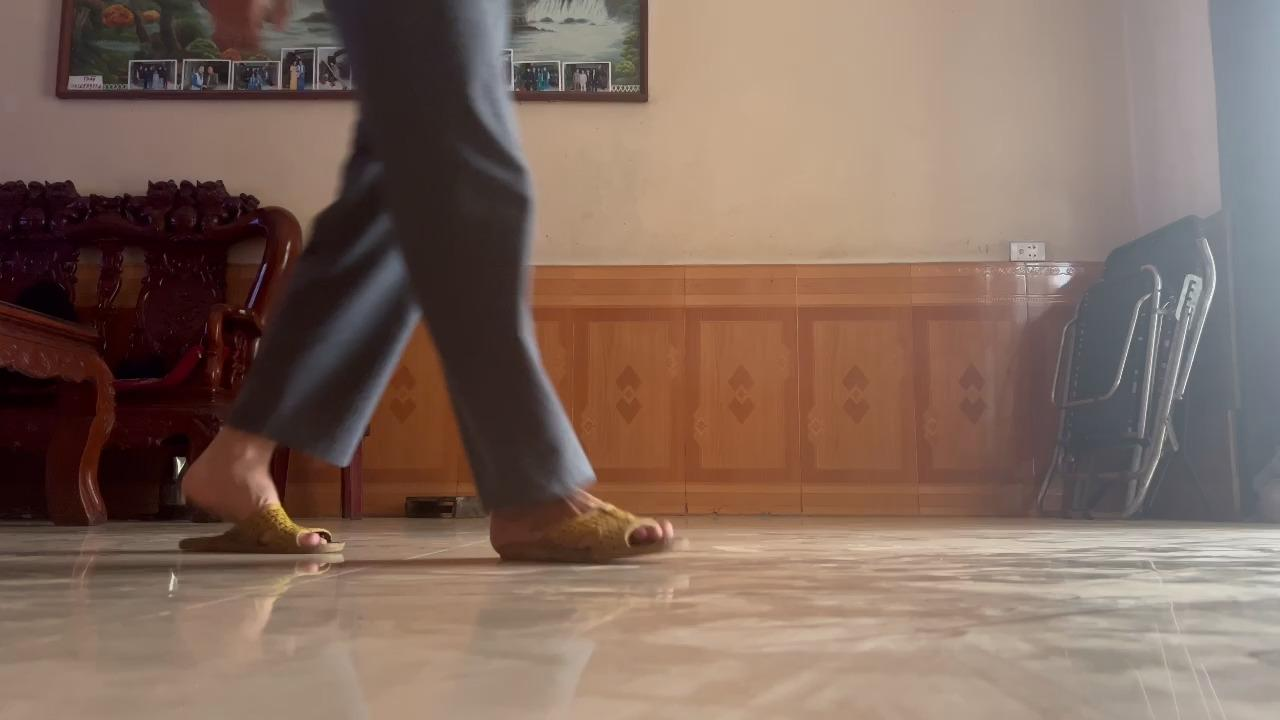no-boot: (169, 450, 349, 562), (480, 502, 694, 570)
